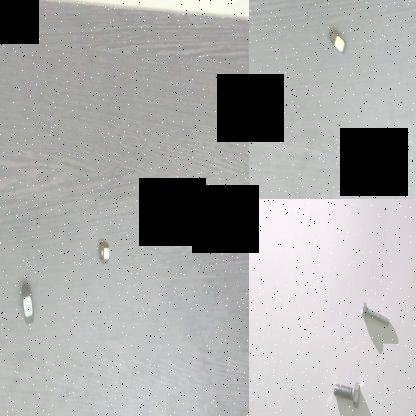Bolts: (331, 378, 363, 410), (358, 299, 392, 327)
NUTS: (326, 25, 348, 61), (19, 283, 37, 327), (99, 233, 111, 272)
